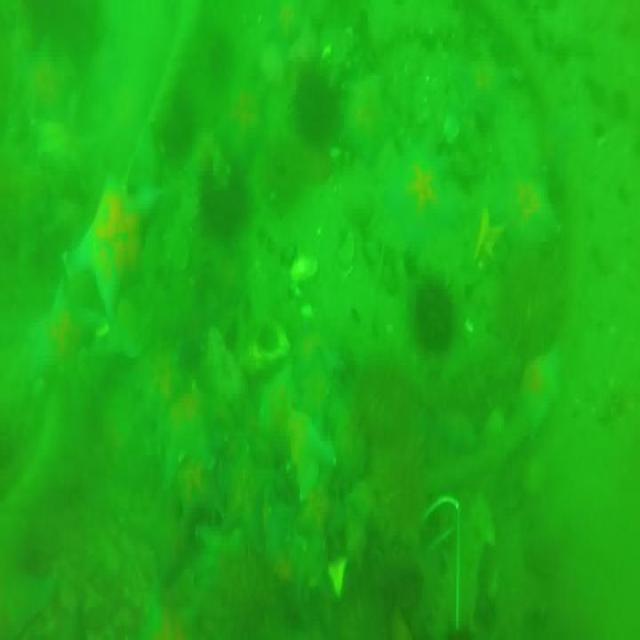echinus: (68, 167, 170, 321), (161, 368, 229, 479), (16, 292, 98, 368), (402, 128, 457, 239), (478, 158, 552, 240), (117, 335, 185, 422), (218, 452, 276, 551), (286, 389, 334, 501), (197, 156, 248, 238), (25, 8, 96, 66), (290, 64, 340, 140), (405, 286, 455, 354), (153, 86, 194, 162)
scallop: (251, 319, 289, 370)
